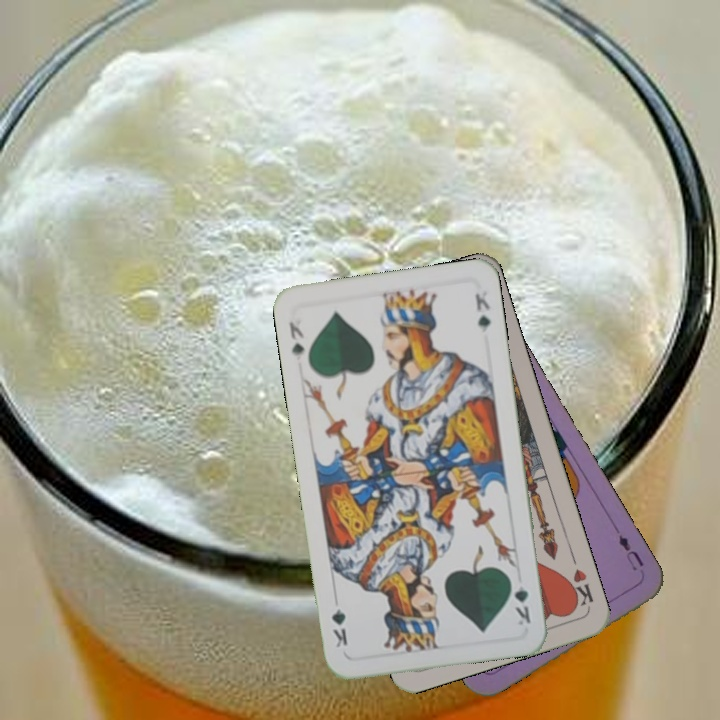EU: (614, 530, 647, 573)
GK: (506, 572, 533, 628), (285, 318, 307, 358)
HK: (562, 564, 596, 611)
